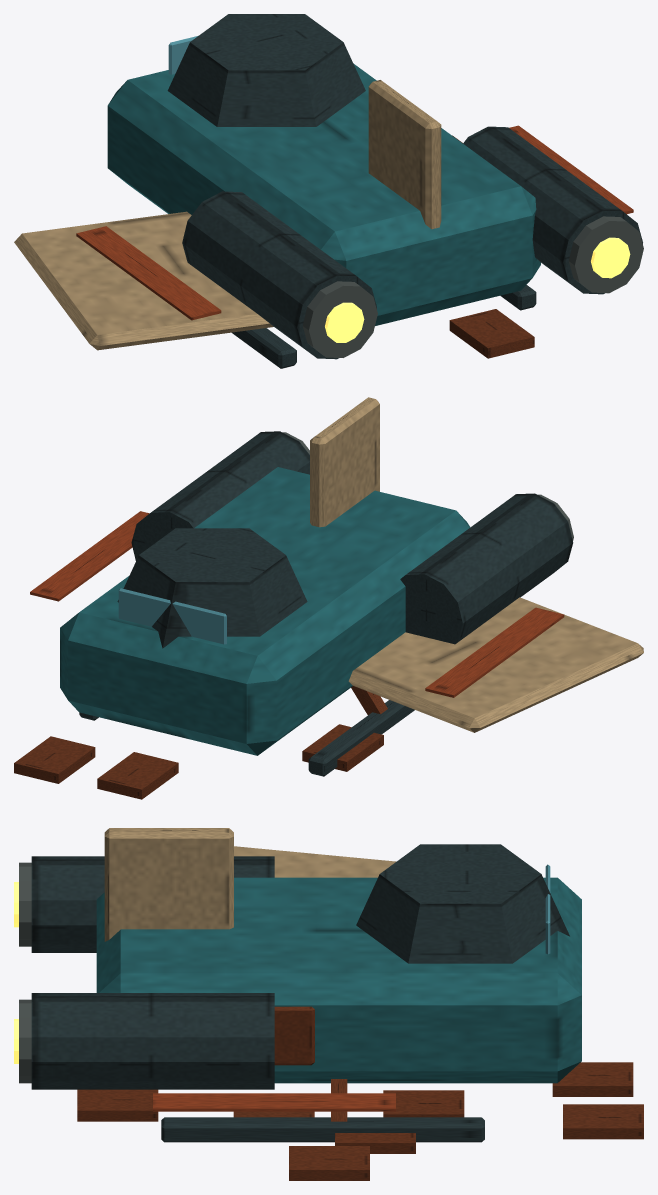
File: wreck.glb
The picture shows the model from 3 angles, top to bottom: view 1: azimuth 30°, elevation 25°; view 2: azimuth 150°, elevation 25°; view 3: azimuth 270°, elevation 25°; orthographic projection. The views are drawn at different scales.
Visible parts, largest first — view 1: wreck_paint.009, wreck_metal.009, wreck_pale.009, wreck_rubber.009, wreck_cloth.009, wreck_rust.009, wreck_orange.009, wreck_glass.009; view 2: wreck_paint.009, wreck_metal.009, wreck_pale.009, wreck_rust.009, wreck_cloth.009, wreck_glass.009; view 3: wreck_paint.009, wreck_metal.009, wreck_rust.009, wreck_pale.009, wreck_cloth.009, wreck_rubber.009.
Boxes of the visible parts, x1=… form: wreck_paint.009: x1=107, y1=63, x2=540, y2=325; wreck_metal.009: x1=167, y1=14, x2=642, y2=368; wreck_pale.009: x1=14, y1=80, x2=441, y2=350; wreck_rubber.009: x1=302, y1=216, x2=643, y2=357; wreck_cloth.009: x1=76, y1=125, x2=633, y2=320; wreck_rust.009: x1=449, y1=135, x2=534, y2=358; wreck_orange.009: x1=325, y1=237, x2=630, y2=342; wreck_glass.009: x1=168, y1=35, x2=198, y2=74; wreck_paint.009: x1=60, y1=467, x2=470, y2=755; wreck_metal.009: x1=79, y1=431, x2=573, y2=776; wreck_pale.009: x1=310, y1=397, x2=643, y2=732; wreck_rust.009: x1=14, y1=686, x2=387, y2=799; wreck_cloth.009: x1=30, y1=511, x2=564, y2=697; wreck_glass.009: x1=118, y1=588, x2=226, y2=644; wreck_paint.009: x1=96, y1=877, x2=581, y2=1083; wreck_metal.009: x1=31, y1=844, x2=569, y2=1142; wreck_rust.009: x1=77, y1=1006, x2=643, y2=1180; wreck_pale.009: x1=104, y1=828, x2=395, y2=941; wreck_cloth.009: x1=153, y1=1093, x2=395, y2=1111; wreck_rubber.009: x1=19, y1=862, x2=31, y2=1083.
Bounding box in the file's own units: 8.04 × 3.38 × 7.79.
Materials: 8 (5 with a texture image).
